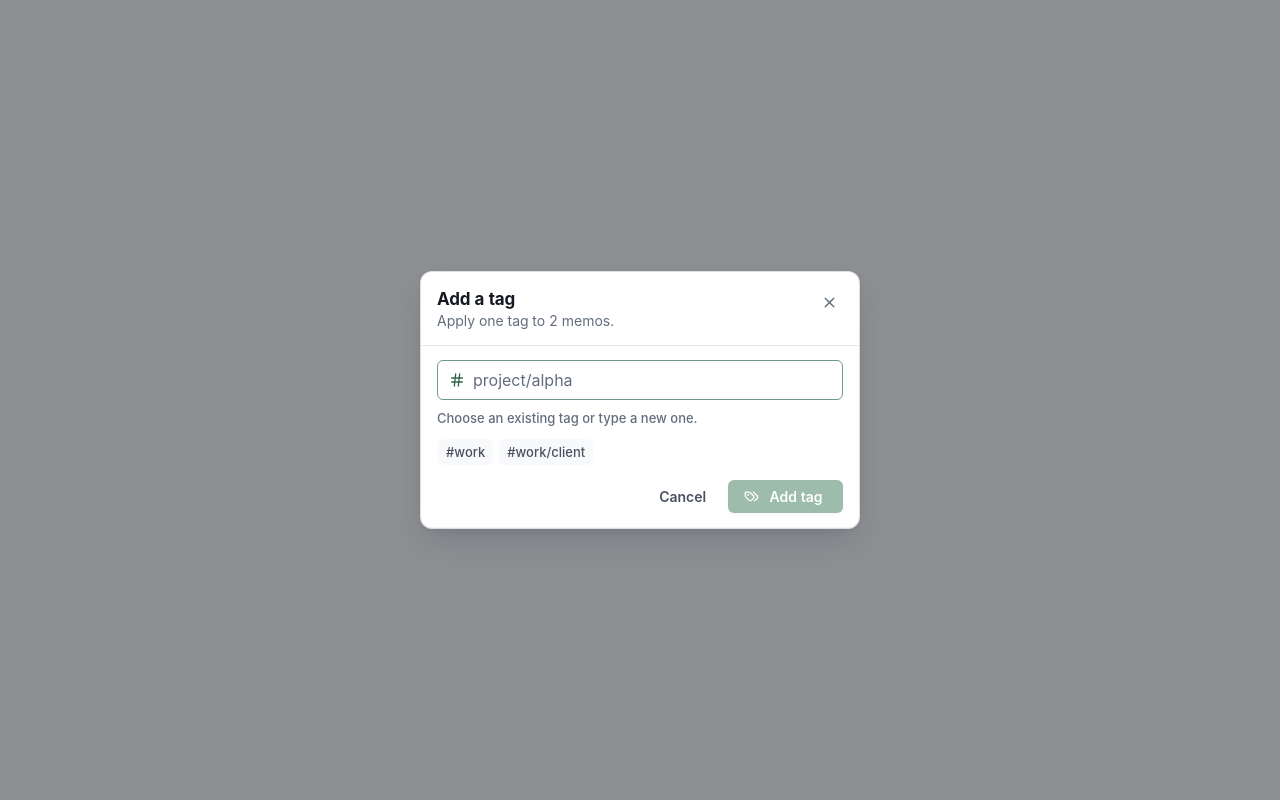
Test case: bulk tag dialog › stays open and exposes an alert when the batch cannot settle
Type "work" into the field named "Tag" at (652,380), box [473, 370, 831, 390]
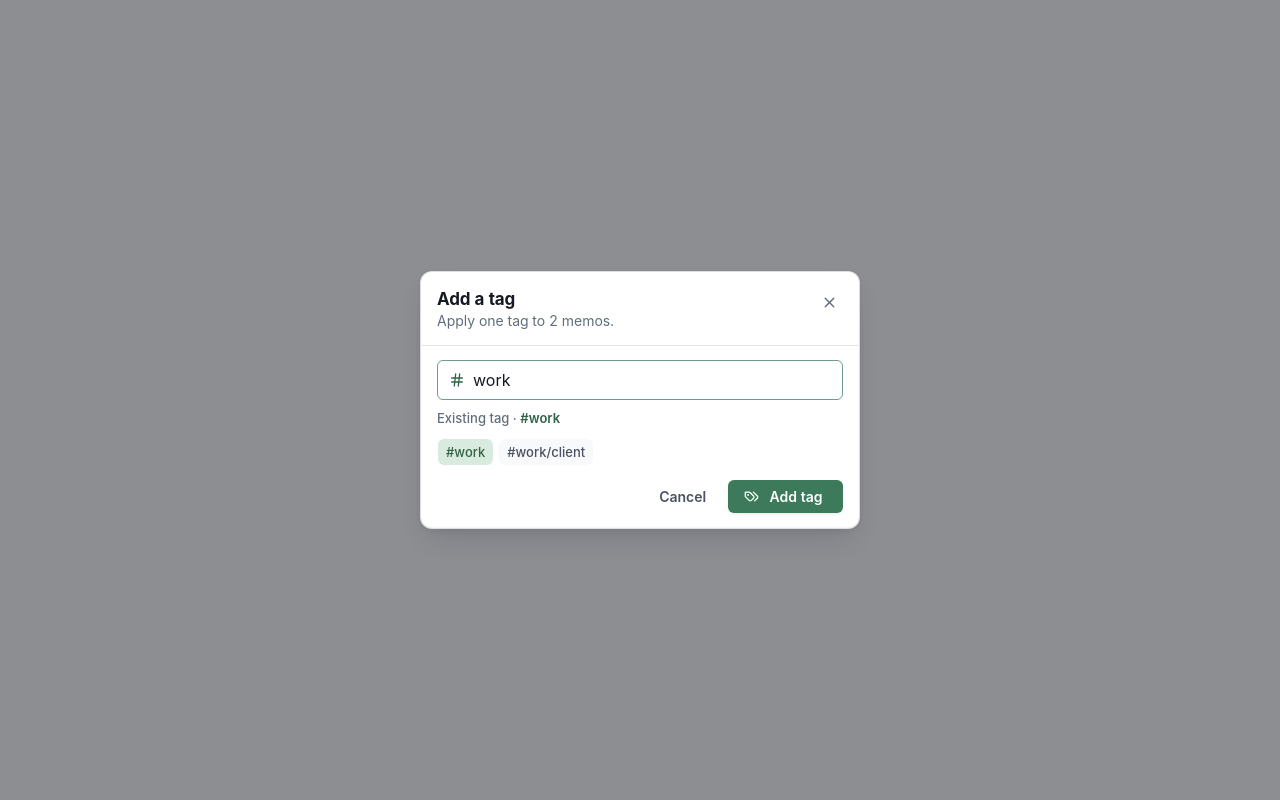
Click the button "Add tag" at (786,496), box [728, 480, 843, 513]
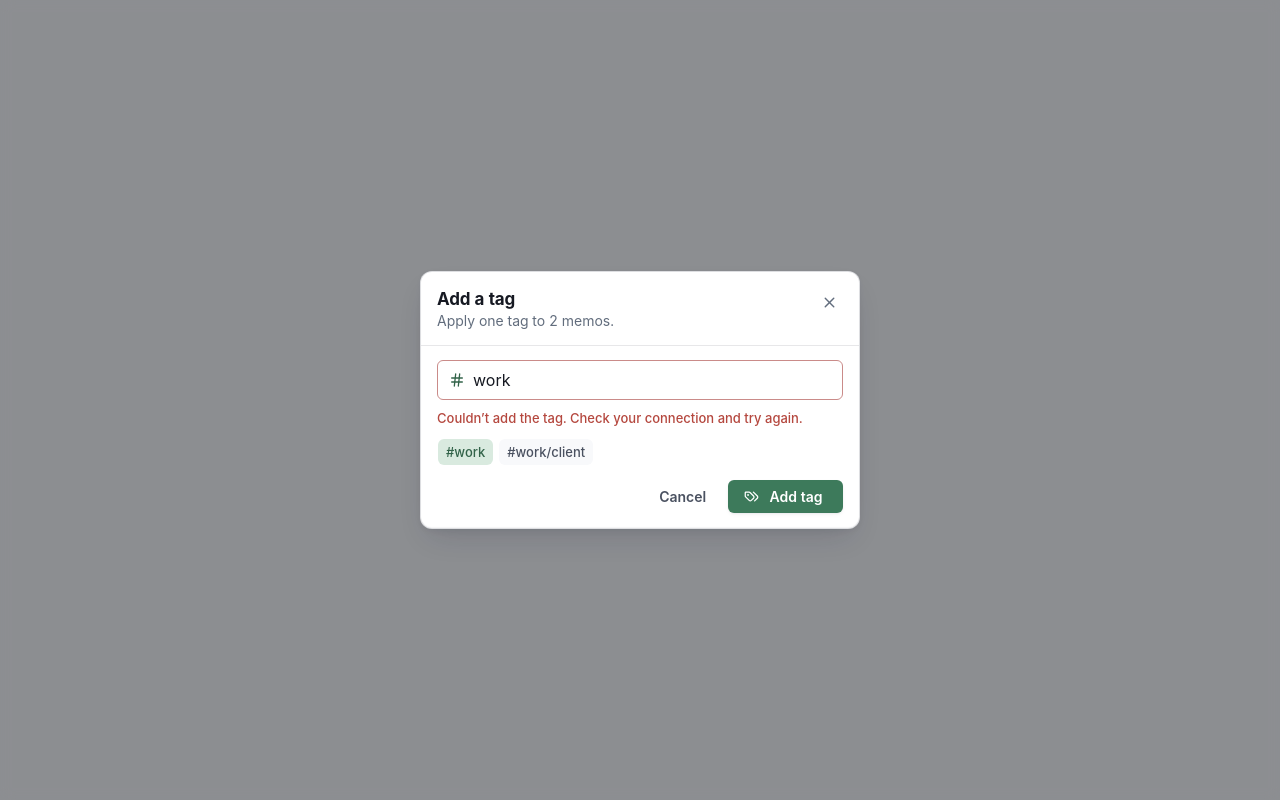
Now the message shows "Couldn’t add the tag", box [437, 410, 802, 426]
